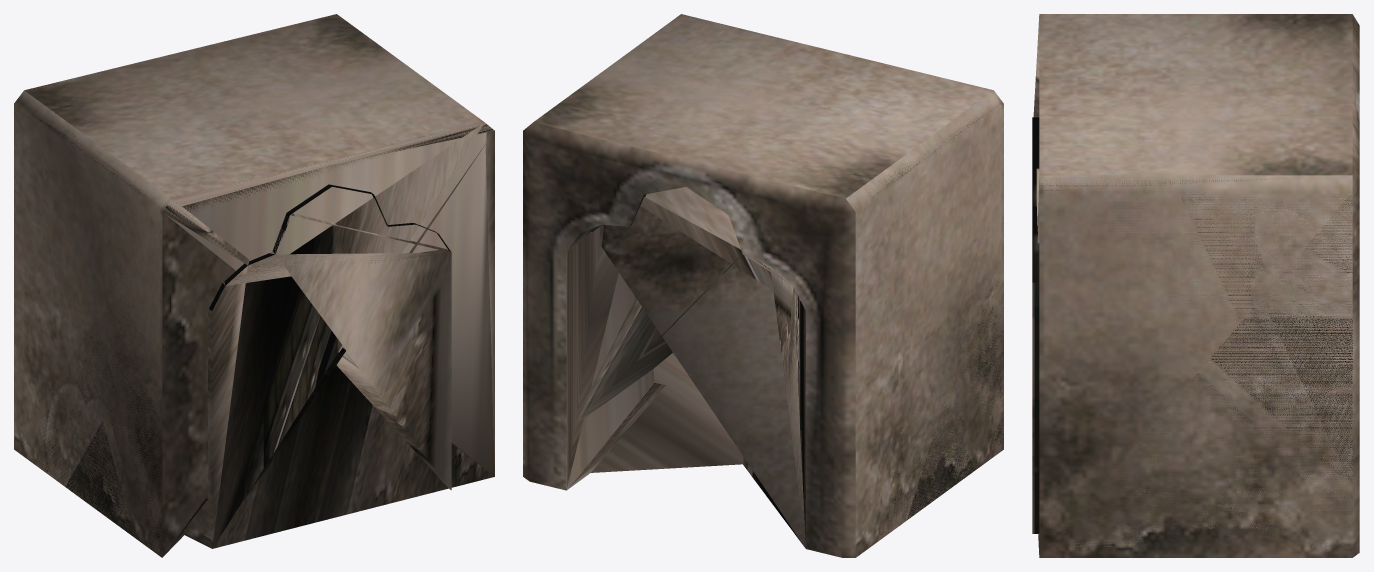
The model's file is stga8.dae.
3 renders of one model, left to right at view 1: azimuth 30°, elevation 25°; view 2: azimuth 150°, elevation 25°; view 3: azimuth 270°, elevation 25°, orthographic. The views are drawn at different scales.
Parts seen in each view (by area): view 1: crown, door2, pike1, col1, door1, base; view 2: crown, pike1, col1, door1; view 3: crown, door2, door1, pike1, base, col1.
Boxes of the visible parts, x1,y1,x2,y2 form: crown: (14,14,484,557); door2: (162,133,494,555); pike1: (18,15,494,548); col1: (162,122,484,551); door1: (14,93,490,557); base: (485,130,494,475); crown: (523,14,1003,557); pike1: (536,15,1002,548); col1: (578,187,805,546); door1: (849,105,1003,556); crown: (1032,14,1359,557); door2: (1038,192,1352,557); door1: (1037,192,1352,554); pike1: (1039,17,1348,174); base: (1040,175,1350,191); col1: (1033,16,1039,231).
Size of the model in its own units: 3.06 by 2.47 by 3.14.
1 material, 1 textured.
